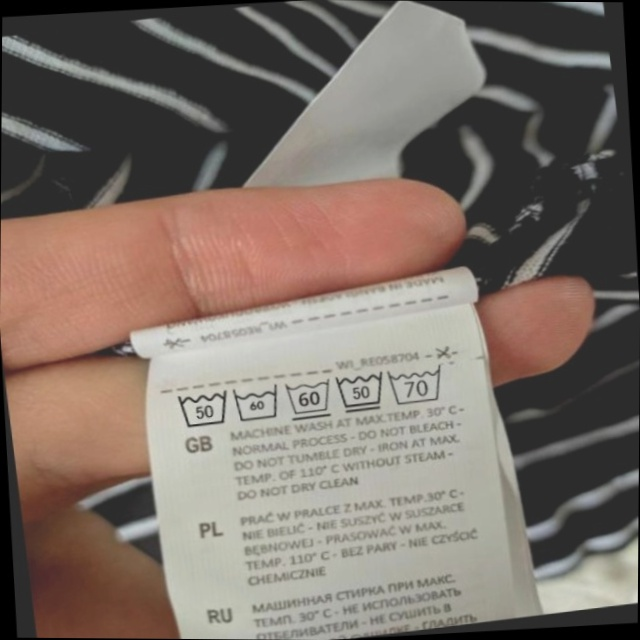50C: (176, 382, 234, 433), (335, 368, 390, 416)
60C: (283, 375, 337, 422), (231, 382, 285, 425)
70C: (387, 361, 450, 411)
